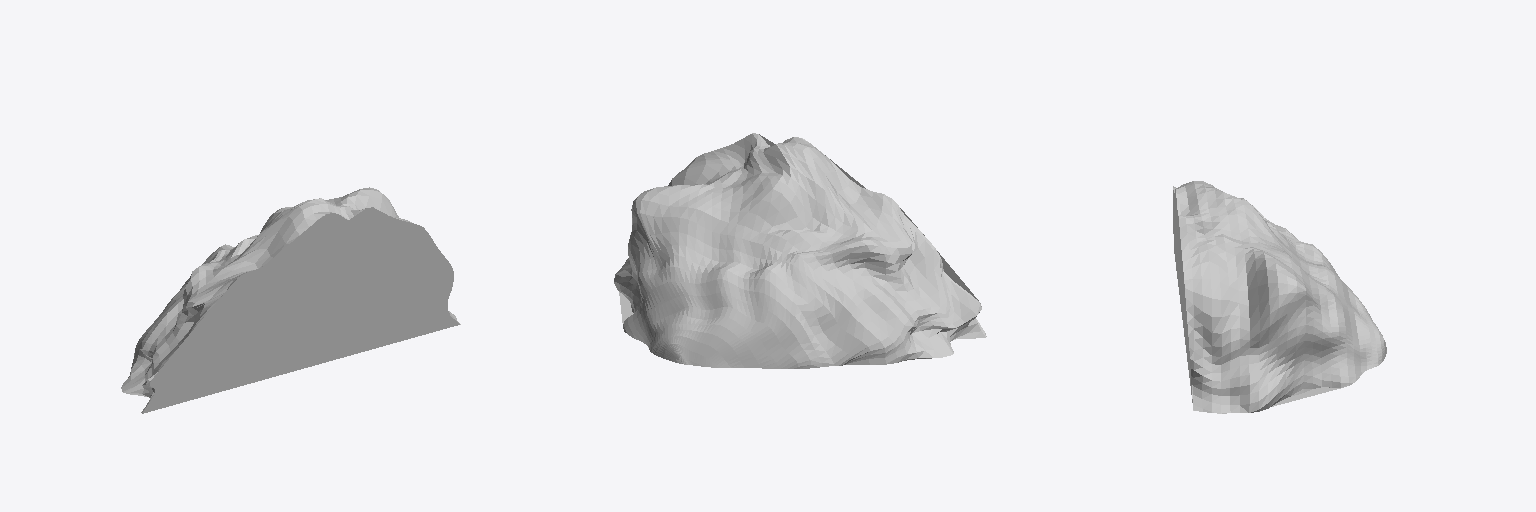
Rendered from Asteroid2quad1.obj.
3 views of the same model, side by side, from view 1: azimuth 30°, elevation 25°; view 2: azimuth 150°, elevation 25°; view 3: azimuth 270°, elevation 25° (orthographic).
Parts seen in each view (by area): view 1: asteroid2; view 2: asteroid2; view 3: asteroid2.
Part boxes in pixels (left/top/right/bottom): asteroid2: left=121, top=187, right=460, bottom=413; asteroid2: left=614, top=133, right=986, bottom=368; asteroid2: left=1173, top=181, right=1386, bottom=413.
Bounding box in the file's own units: 2.5 × 1.13 × 1.39.